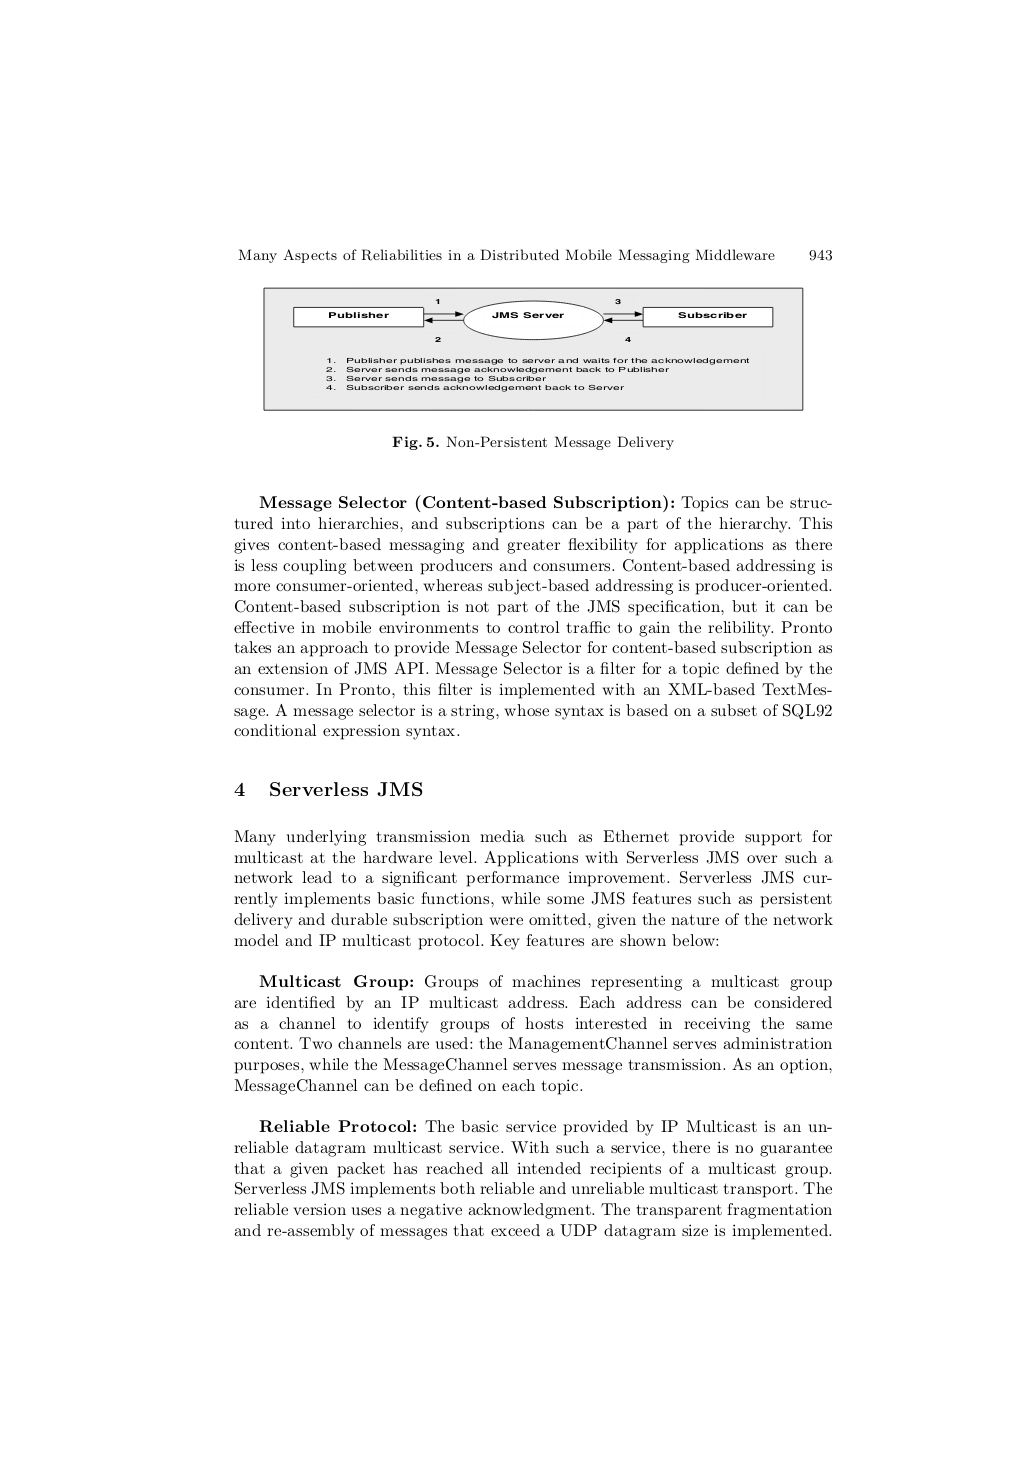figure: (263, 286, 803, 410)
